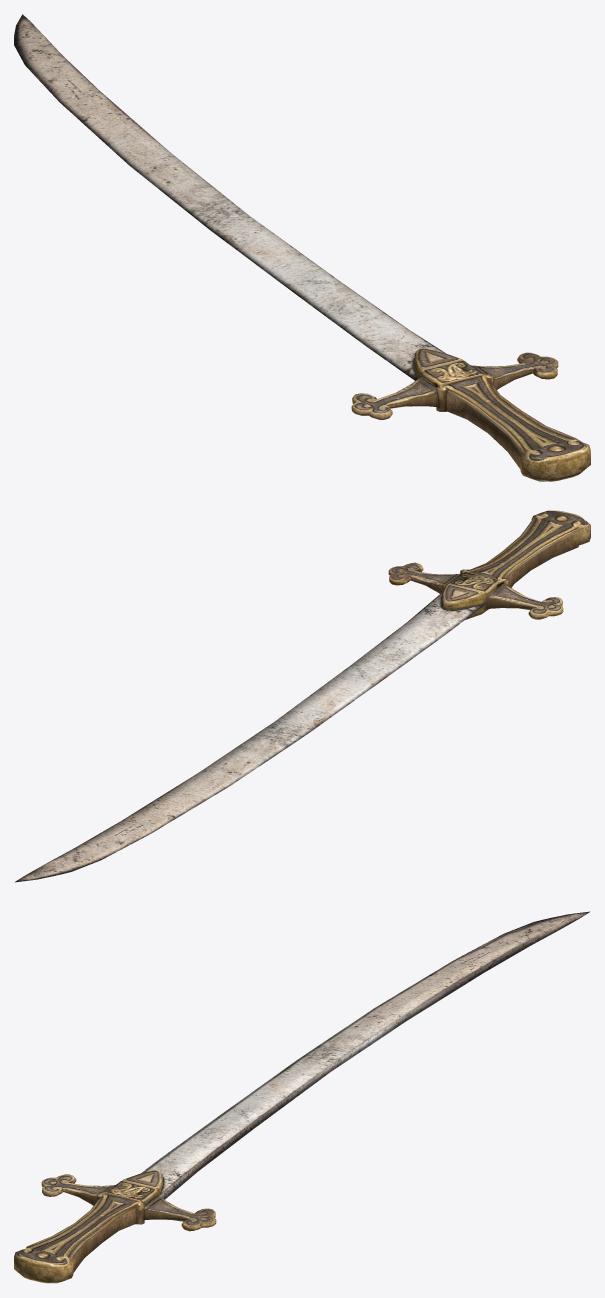
Rendered from blade.glb.
3 renders of one model, top to bottom at view 1: azimuth 30°, elevation 25°; view 2: azimuth 150°, elevation 25°; view 3: azimuth 330°, elevation 25°, orthographic. The views are drawn at different scales.
Parts seen in each view (by area): view 1: Object_2; view 2: Object_2; view 3: Object_2.
Boxes of the visible parts, x1,y1,x2,y2 form: Object_2: (14, 14, 590, 481); Object_2: (15, 510, 590, 882); Object_2: (14, 911, 589, 1283).
Size of the model in its own units: 5.41 by 0.6502 by 27.66.
Materials: 1 (1 with a texture image).
